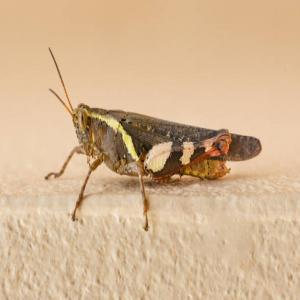locust: (49, 64, 265, 224)
